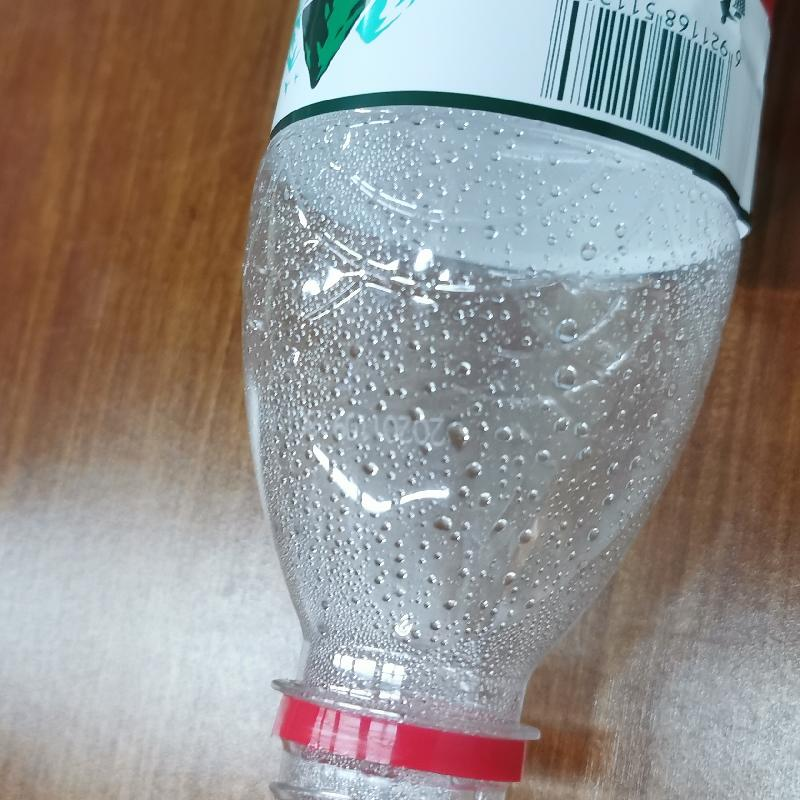bottles: (232, 1, 772, 799)
